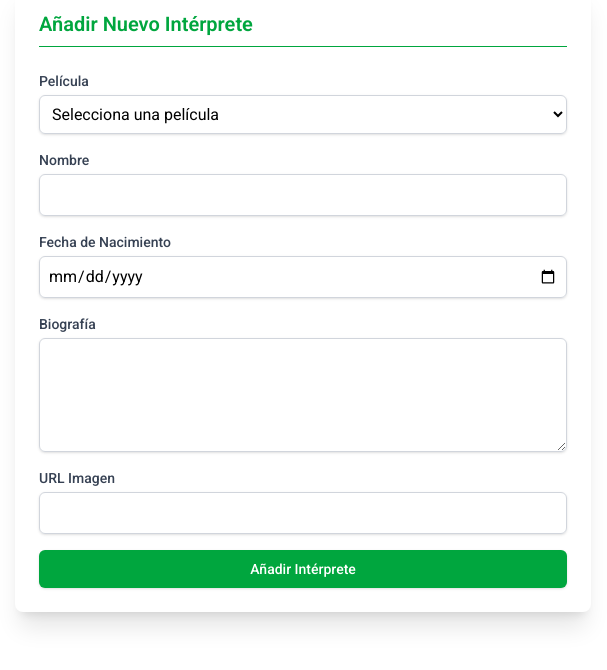
Test case: FormularioInterprete › muestra error "La biografía debe tener al menos 50 caracteres" si la biografía es demasiado corta
// rellenamos los campos obligatorios con valores válidos excepto la biografía
Type "Marina" into the field labelled "Nombre" at (303, 195), box x1=39 y1=174 x2=567 y2=216
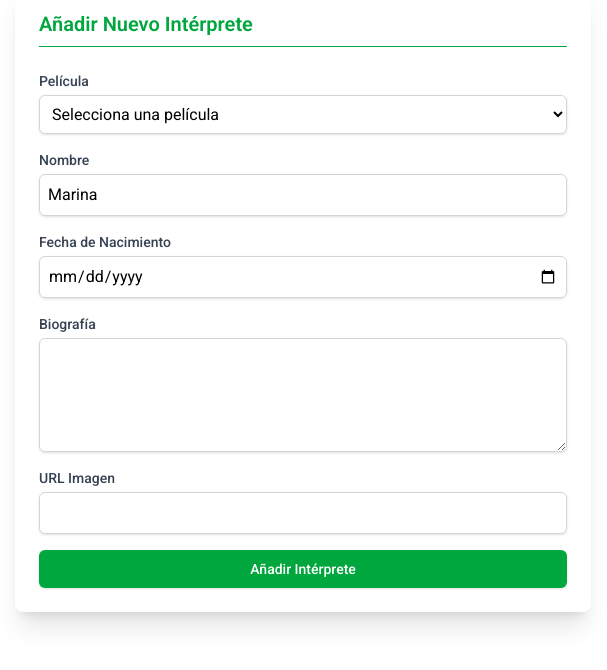
Select "Pulp Fiction" in the dropdown labelled "Película" at (303, 114), box x1=39 y1=95 x2=567 y2=134
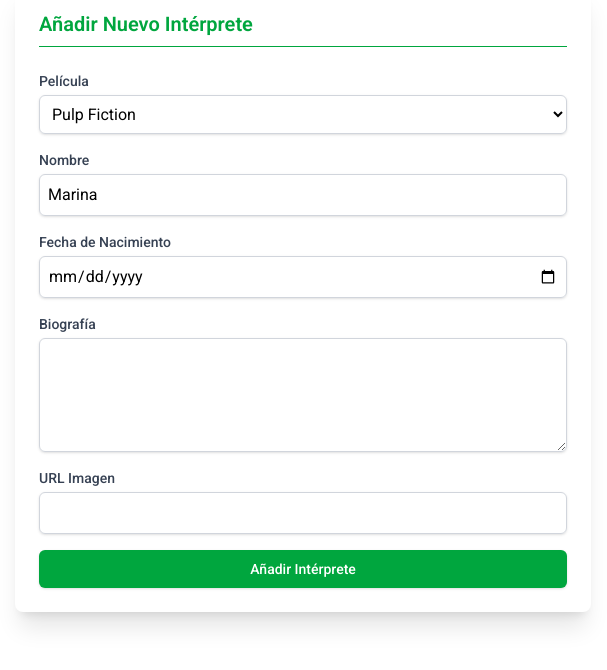
Type "Biografía corta" into the text box labelled "Biografía" at (303, 395), box x1=39 y1=338 x2=567 y2=452
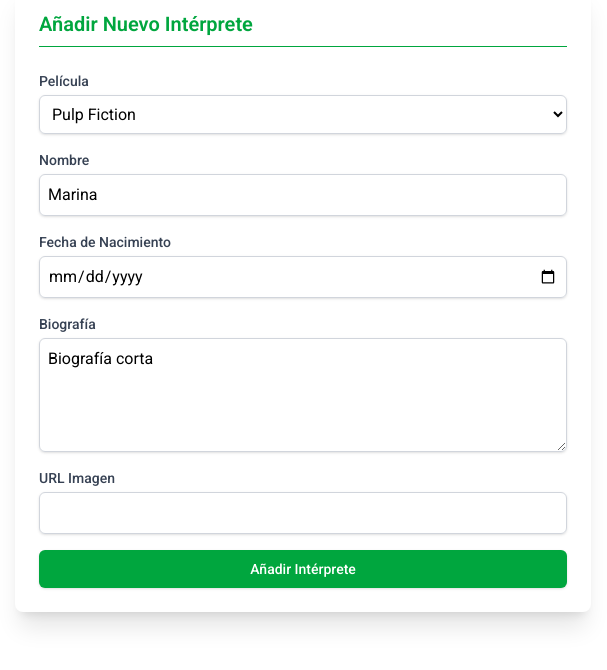
Type "https://ejemplo.com/imagen.jpg" into the field labelled "URL Imagen" at (303, 513), box x1=39 y1=492 x2=567 y2=534
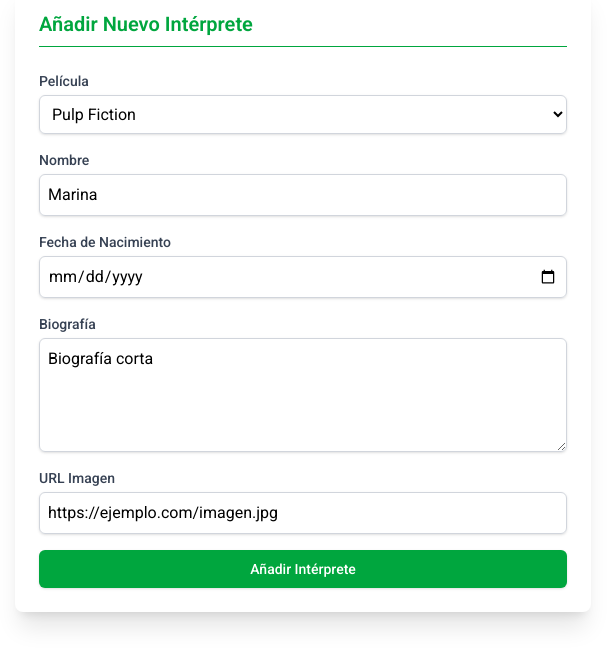
Click the button "Añadir Intérprete" at (303, 569), box x1=39 y1=550 x2=567 y2=588
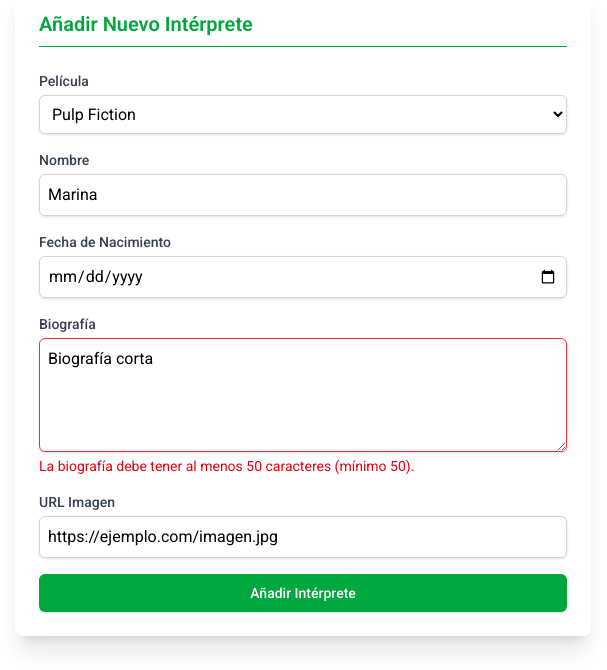
Expected: the text "La biografía debe tener al menos 50 caracteres (mínimo 50)." is shown, x1=39 y1=458 x2=414 y2=474
